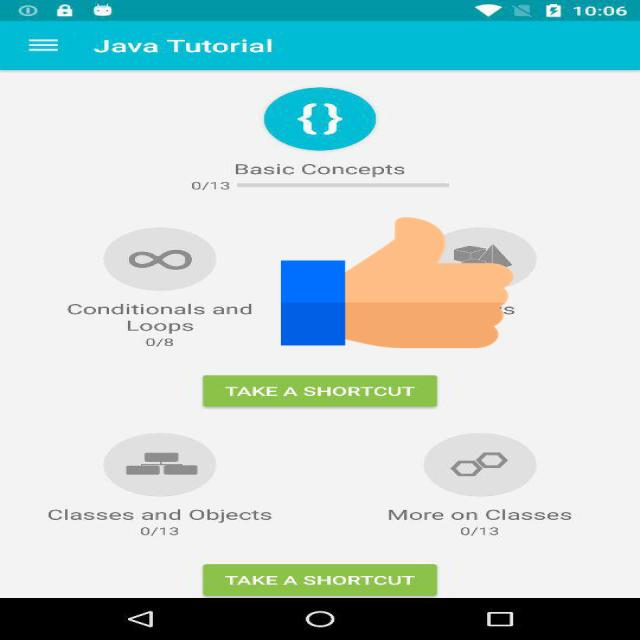privacy zuckering: (281, 214, 513, 351)
